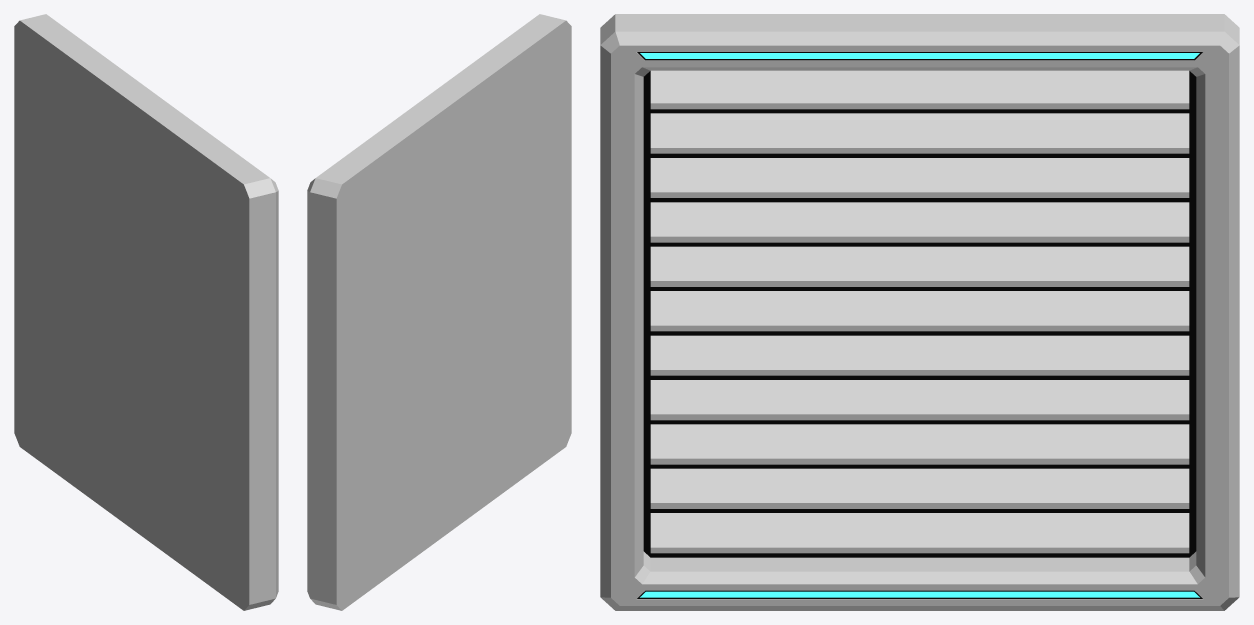
File: SM_WallDecor_Vent_Wide.glb
3 renders of one model, left to right at view 1: azimuth 30°, elevation 25°; view 2: azimuth 150°, elevation 25°; view 3: azimuth 270°, elevation 25°, orthographic. The views are drawn at different scales.
Visible parts, largest first — view 1: SM_WallDecor_Vent_Wide.001; view 2: SM_WallDecor_Vent_Wide.001; view 3: SM_WallDecor_Vent_Wide.001.
Boxes of the visible parts, left/top/right/bottom form: SM_WallDecor_Vent_Wide.001: left=14, top=14, right=278, bottom=610; SM_WallDecor_Vent_Wide.001: left=307, top=14, right=571, bottom=610; SM_WallDecor_Vent_Wide.001: left=600, top=14, right=1239, bottom=610.
Bounding box in the file's own units: 0.3259 × 4 × 4.
